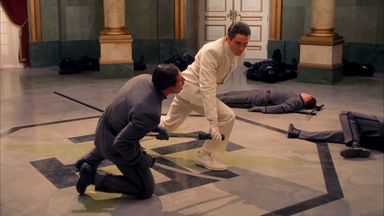bladed_weapon: (150, 159, 230, 185), (52, 86, 106, 114), (146, 131, 227, 141), (302, 100, 325, 119)
